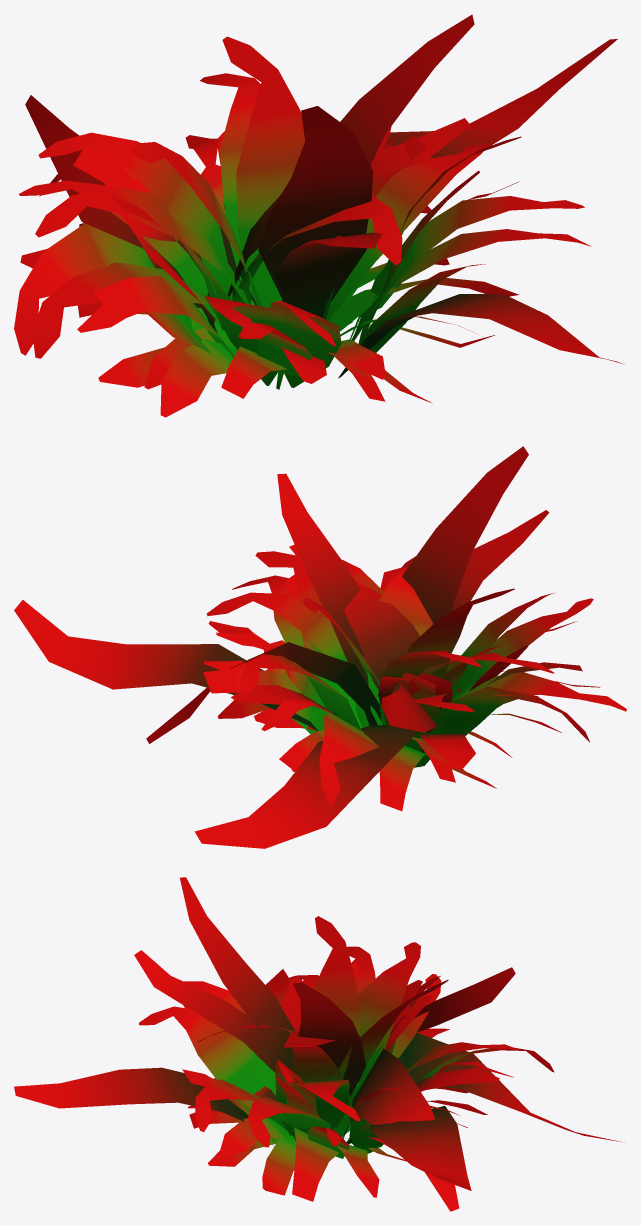
File: Boston Fern_LOD2_Var3_rhDrC.fbx
The picture shows the model from 3 angles, top to bottom: view 1: azimuth 30°, elevation 25°; view 2: azimuth 150°, elevation 25°; view 3: azimuth 270°, elevation 25°; orthographic projection. The views are drawn at different scales.
Visible parts, largest first — view 1: _e8b9_Var3_LOD2; view 2: _e8b9_Var3_LOD2; view 3: _e8b9_Var3_LOD2.
Part boxes in pixels (x1,y1,x2,y2): _e8b9_Var3_LOD2: (14, 14, 624, 417); _e8b9_Var3_LOD2: (14, 446, 626, 848); _e8b9_Var3_LOD2: (14, 877, 624, 1211).
Bounding box in the file's own units: 16.3 × 7.81 × 17.78.
